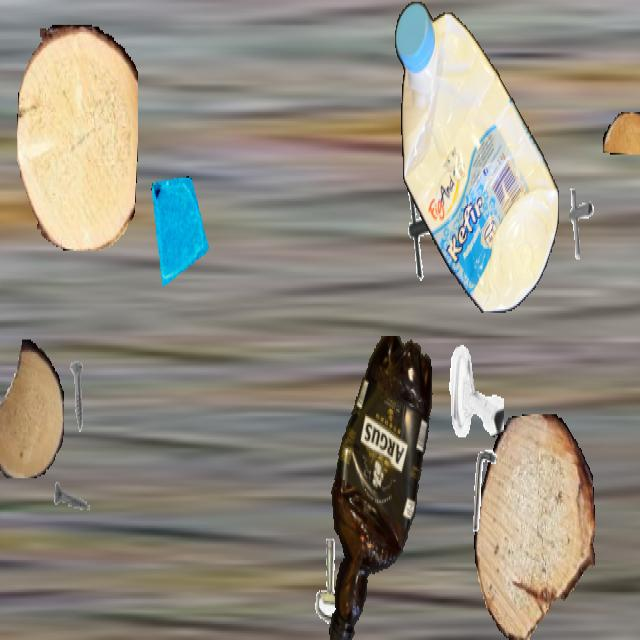glass: (148, 176, 212, 290)
metal: (397, 176, 457, 283), (446, 340, 504, 442), (305, 532, 361, 631), (459, 442, 513, 538), (557, 183, 601, 261), (57, 359, 99, 434), (53, 459, 95, 533)
plastic: (395, 2, 559, 311), (319, 336, 439, 638)
wood: (474, 414, 594, 638), (17, 25, 137, 249), (0, 340, 64, 478), (603, 112, 640, 155)
